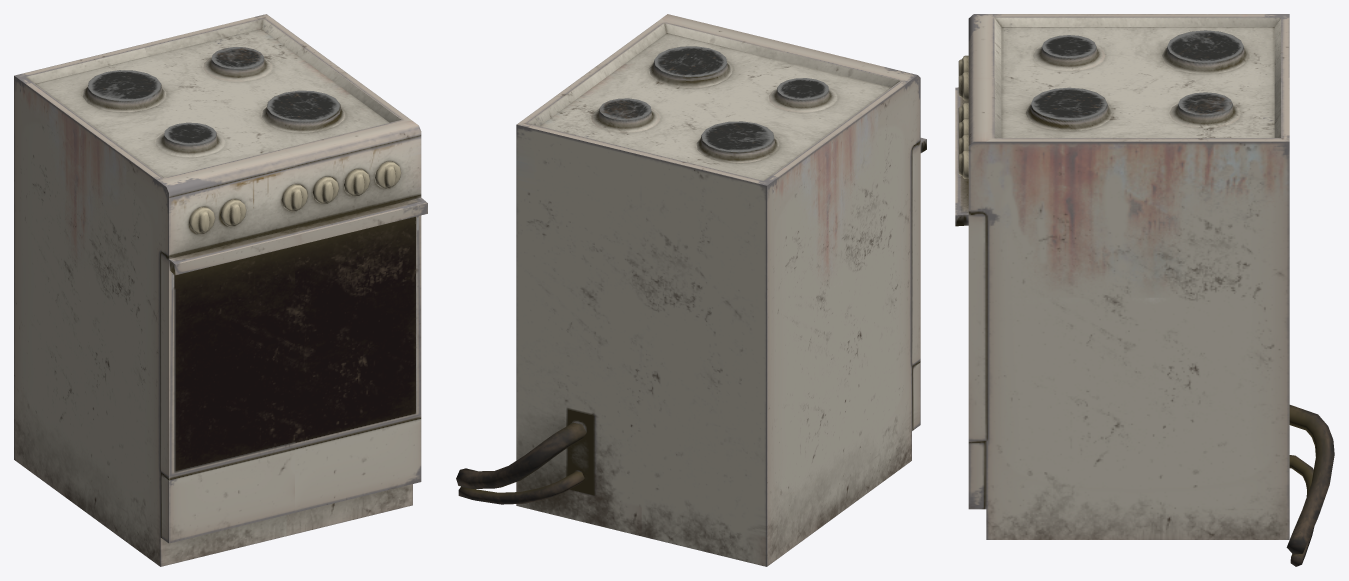
The model's file is stove.fbx.
The picture shows the model from 3 angles, left to right: view 1: azimuth 30°, elevation 25°; view 2: azimuth 150°, elevation 25°; view 3: azimuth 270°, elevation 25°; orthographic projection. The views are drawn at different scales.
Visible parts, largest first — view 1: stove_low; view 2: stove_low; view 3: stove_low.
Part boxes in pixels (x1,y1,x2,y2): stove_low: (14, 14, 427, 566); stove_low: (456, 14, 926, 566); stove_low: (955, 14, 1334, 566).
Bounding box in the file's own units: 72.33 × 87.81 × 75.1.
1 material, 1 textured.
